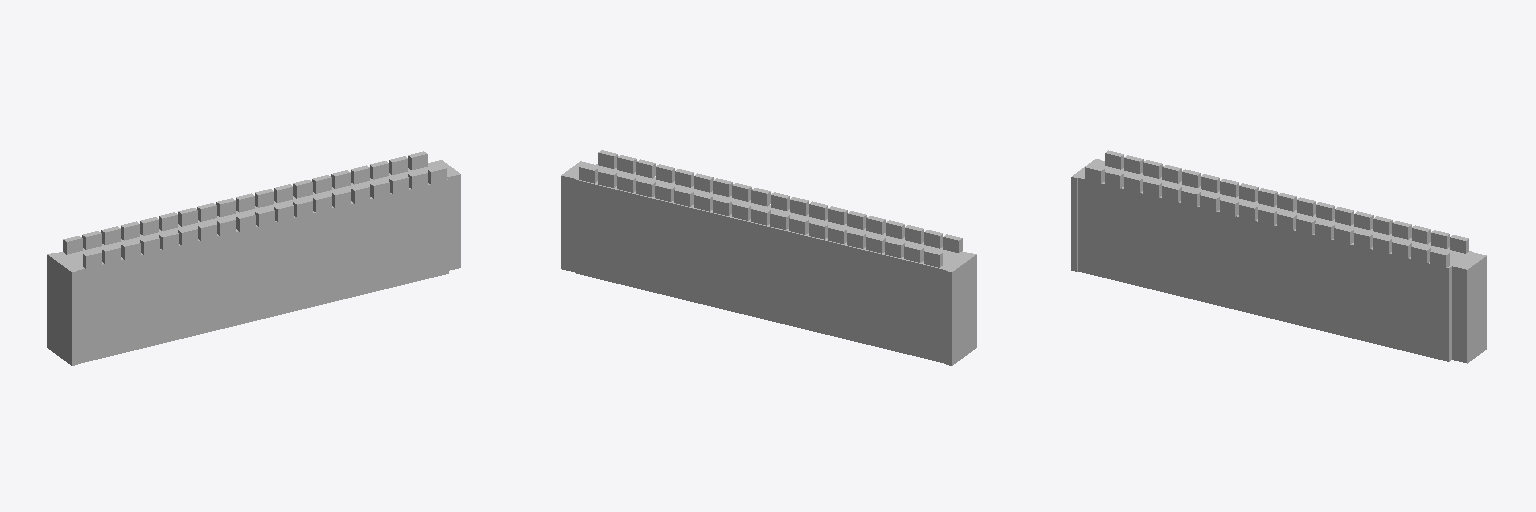
Rendered from back_wall.obj.
The picture shows the model from 3 angles: view 1: azimuth 30°, elevation 25°; view 2: azimuth 150°, elevation 25°; view 3: azimuth 330°, elevation 25°; orthographic projection.
Visible parts, largest first — view 1: Back_Wall_Back_Wall.001; view 2: Back_Wall_Back_Wall.001; view 3: Back_Wall_Back_Wall.001.
Boxes of the visible parts, x1=… form: Back_Wall_Back_Wall.001: x1=47, y1=151, x2=460, y2=365; Back_Wall_Back_Wall.001: x1=561, y1=150, x2=976, y2=365; Back_Wall_Back_Wall.001: x1=1071, y1=150, x2=1486, y2=363.
Size of the model in its own units: 517 by 134 by 56.73.